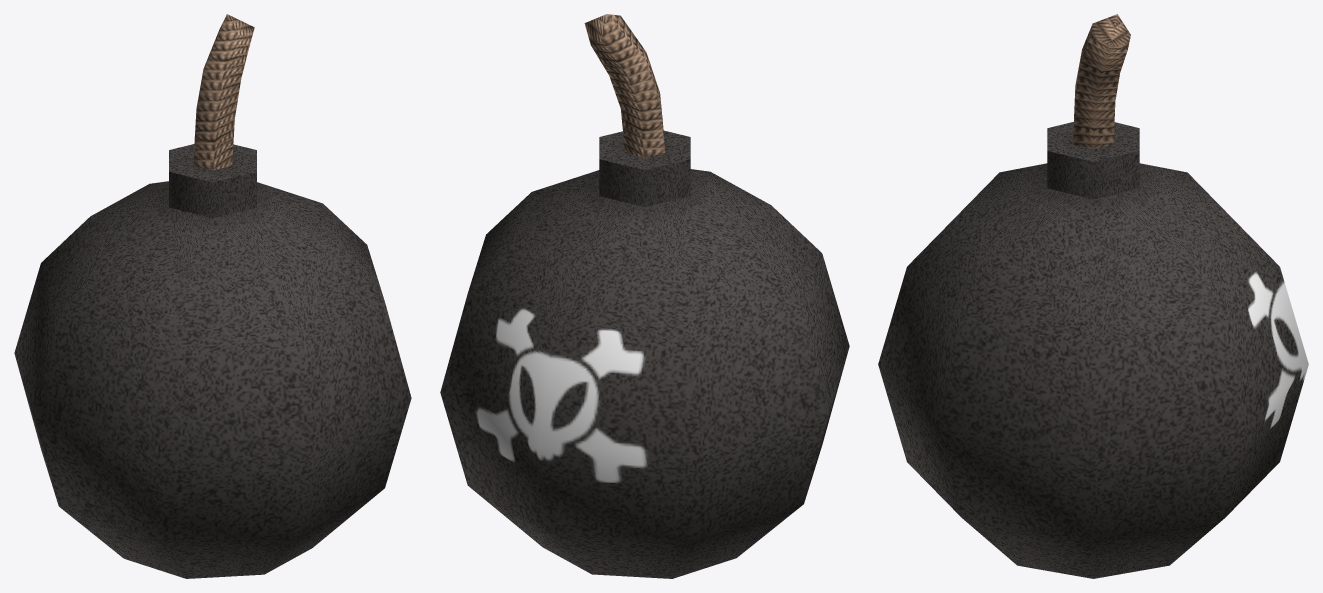
Rendered from Bomb.fbx.
3 renders of one model, left to right at view 1: azimuth 30°, elevation 25°; view 2: azimuth 150°, elevation 25°; view 3: azimuth 270°, elevation 25°, orthographic. The views are drawn at different scales.
Parts seen in each view (by area): view 1: Empty_Mesh; view 2: Empty_Mesh; view 3: Empty_Mesh.
Boxes of the visible parts, x1,y1,x2,y2 form: Empty_Mesh: (14,14,411,578); Empty_Mesh: (440,14,849,578); Empty_Mesh: (878,14,1308,578).
Size of the model in its own units: 0.5 by 0.7155 by 0.5.
